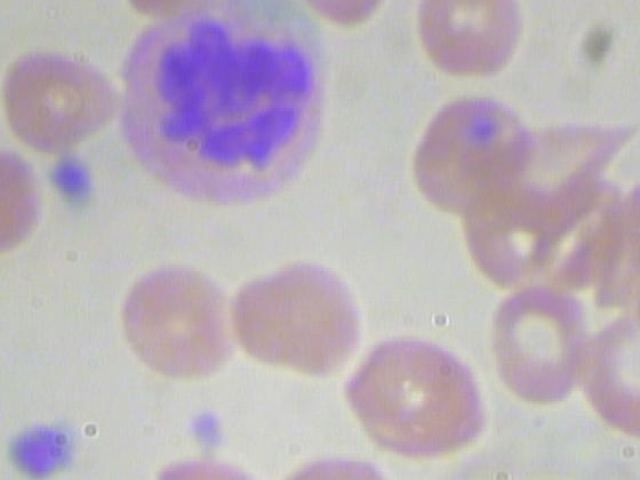Platelets: (2, 412, 82, 480), (43, 149, 98, 211), (181, 409, 228, 456)
RBC: (336, 327, 491, 459), (108, 255, 242, 386), (229, 255, 363, 386), (407, 89, 540, 219), (484, 277, 594, 405), (0, 42, 126, 152), (407, 0, 540, 87), (0, 134, 38, 263), (288, 0, 395, 33)
WBC: (113, 0, 343, 213)
